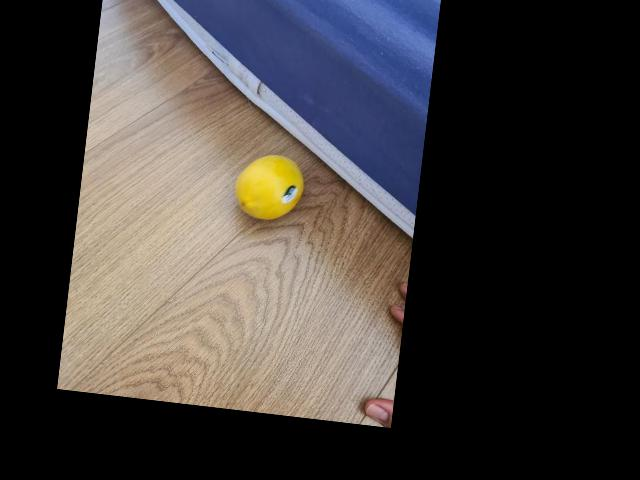lemon: (228, 153, 307, 219)
